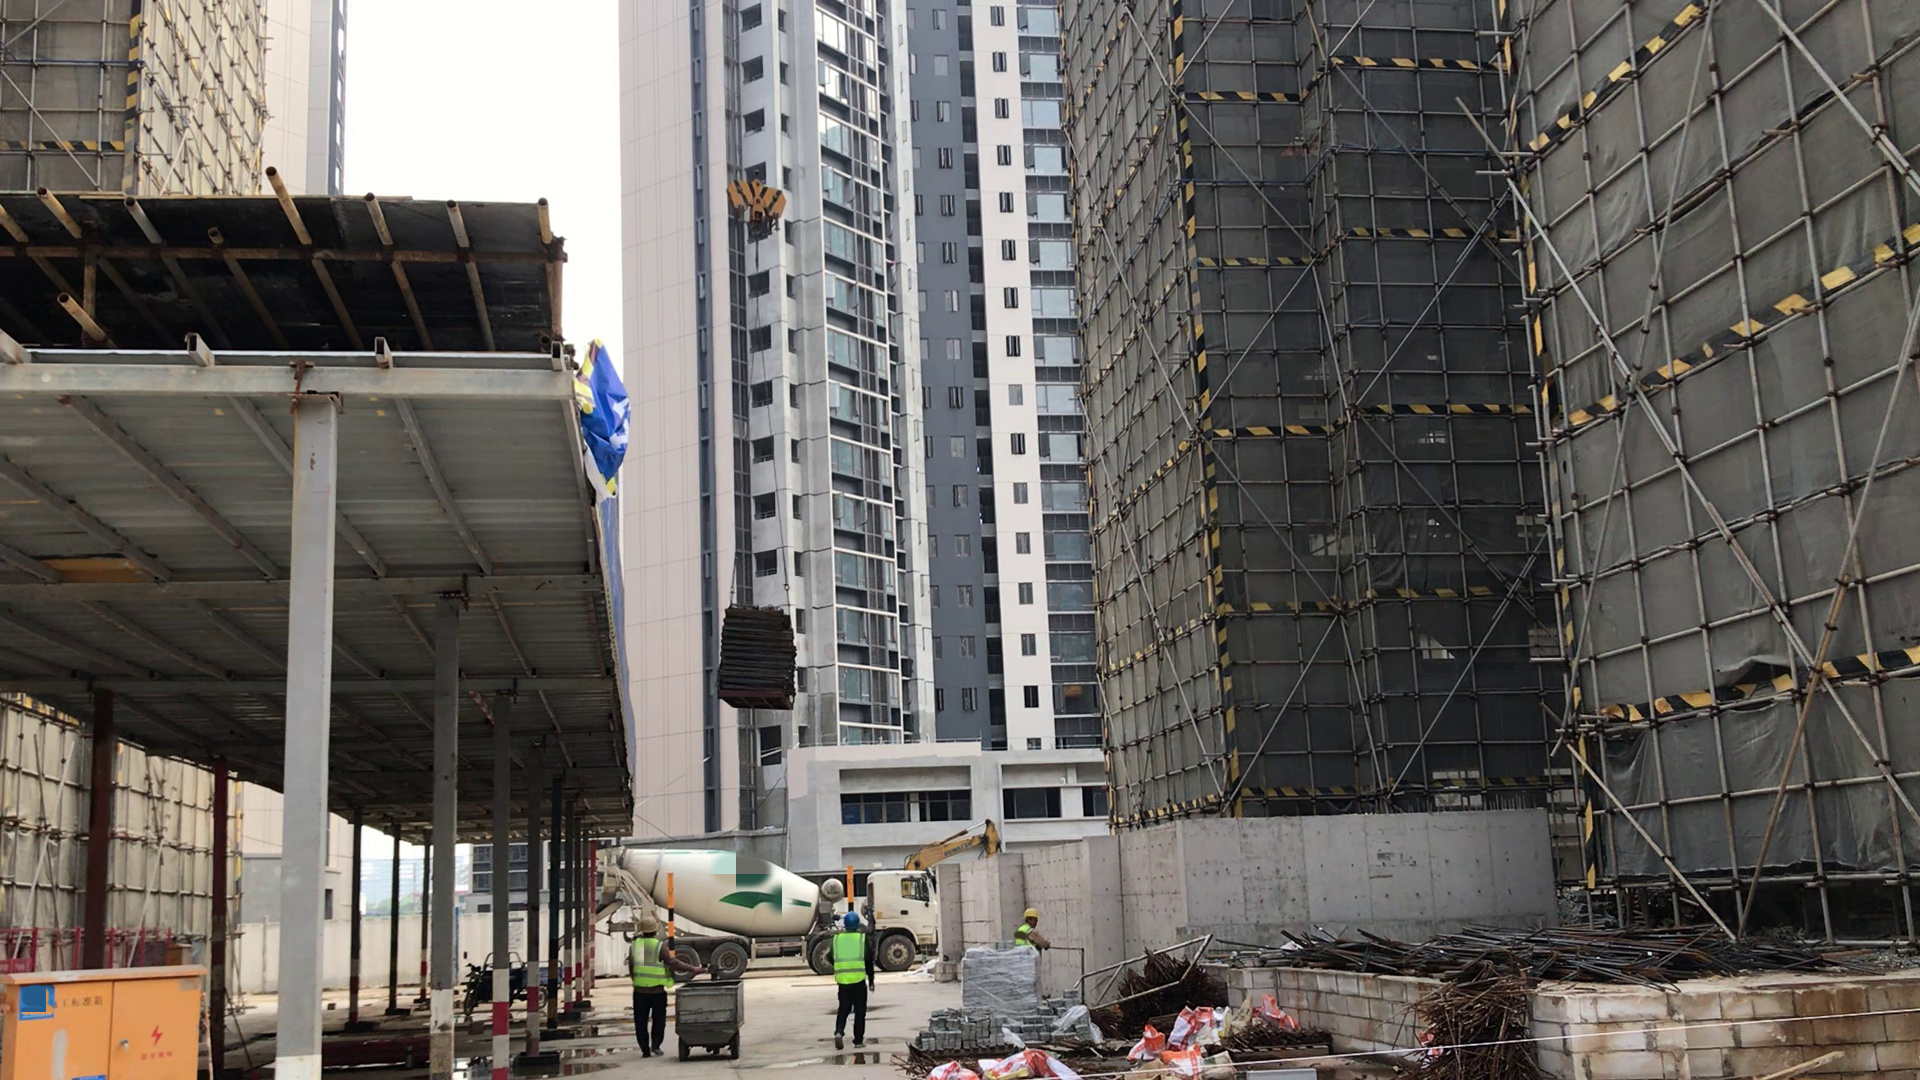helmet: (639, 916, 663, 937), (842, 912, 860, 928), (1021, 905, 1037, 921)
person: (620, 912, 676, 1069), (821, 911, 878, 1059), (1014, 906, 1051, 956)
vest: (626, 937, 678, 998), (834, 928, 872, 994), (1020, 921, 1033, 951)
